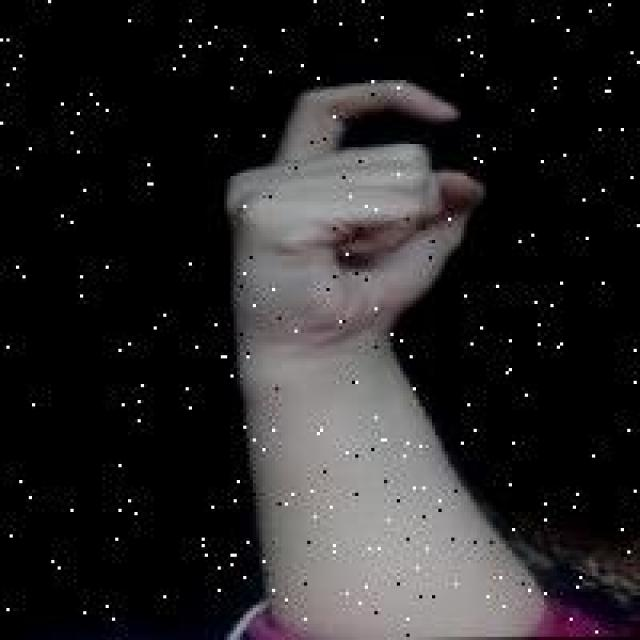X: (224, 69, 499, 379)
